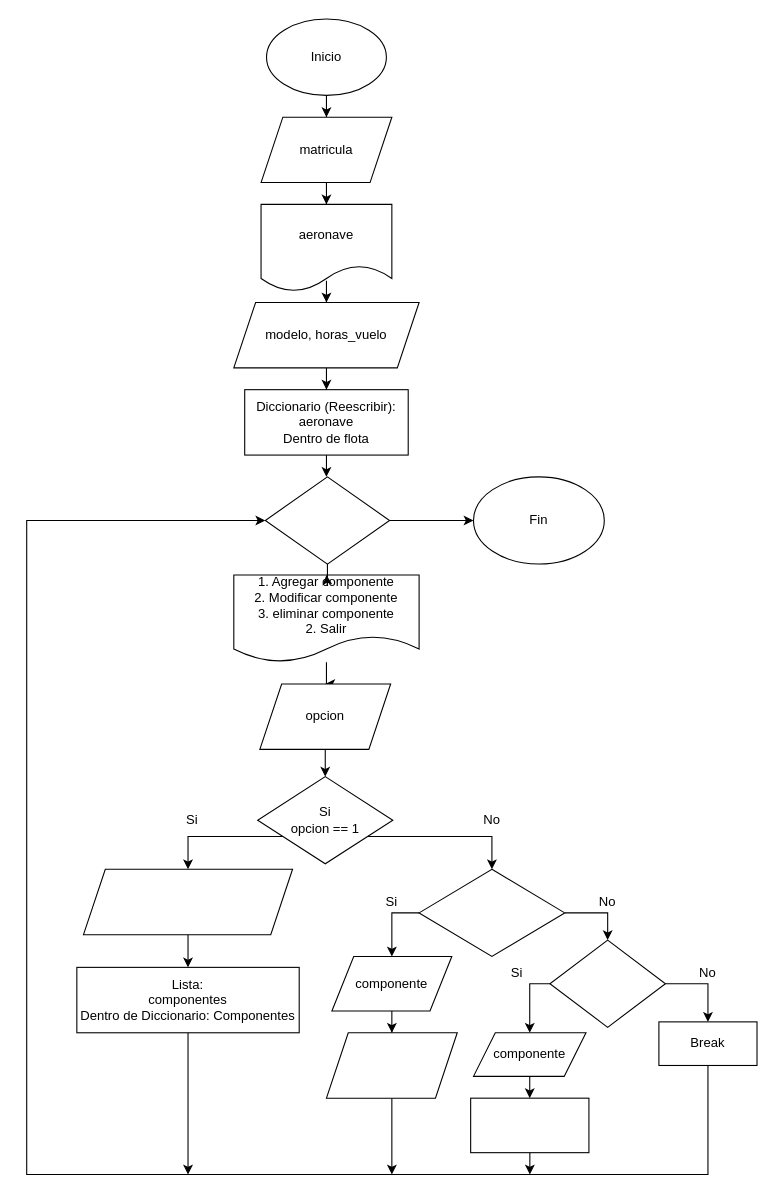
Some shapes in this 776 by 1202 pixel diagram are drawn without their labels. Each missing label, with the centre of its shape:
"Componente, horas_uso, limite" belongs at (x=187, y=901).
"del(componente)" belongs at (x=529, y=1125).
"horas_uso, limite" belongs at (x=391, y=1065).
"Si opcion == 2" belongs at (x=491, y=912).
"Si opcion == 3" belongs at (x=607, y=983).
"While True" belongs at (x=327, y=520).
